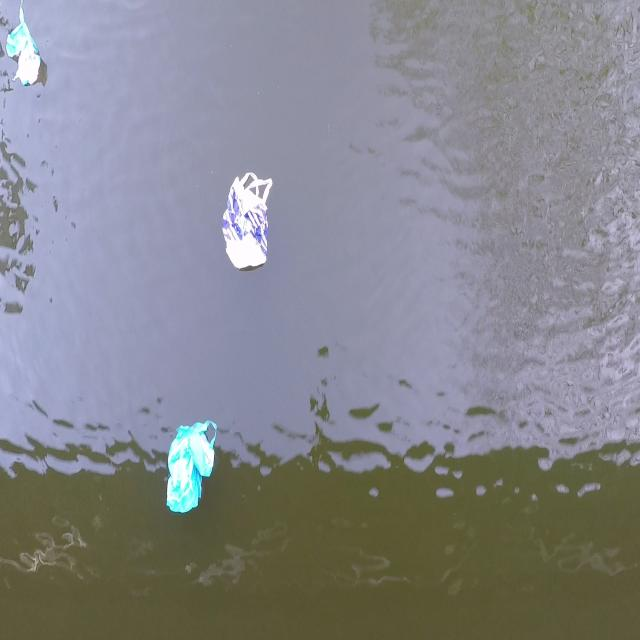Sac plastique: (159, 410, 223, 519), (218, 169, 278, 275), (3, 7, 46, 94)
